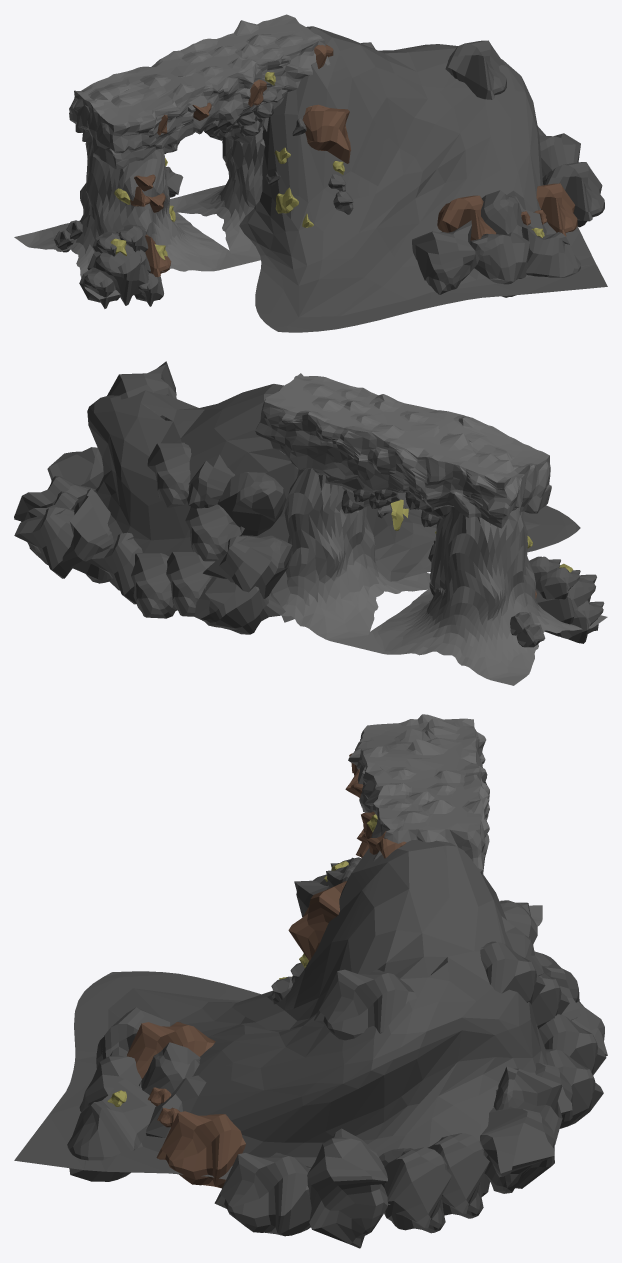
File: Mountaine5.fbx
The picture shows the model from 3 angles, top to bottom: view 1: azimuth 30°, elevation 25°; view 2: azimuth 150°, elevation 25°; view 3: azimuth 270°, elevation 25°; orthographic projection. The views are drawn at different scales.
Visible parts, largest first — view 1: Plane.001; view 2: Plane.001; view 3: Plane.001.
Part boxes in pixels (<box>): Plane.001: <box>14,14,607,332</box>; Plane.001: <box>14,361,607,685</box>; Plane.001: <box>14,714,607,1248</box>.
Size of the model in its own units: 19064 by 7789 by 14800.
